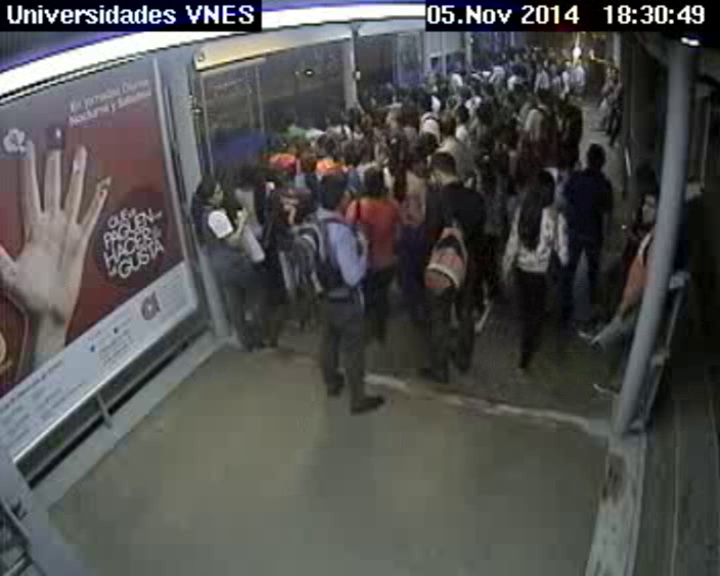person: (317, 174, 357, 210), (524, 168, 556, 205), (428, 152, 460, 185), (195, 177, 224, 207), (641, 193, 666, 224), (359, 168, 386, 196), (635, 160, 659, 190), (472, 147, 499, 173), (384, 132, 409, 157), (584, 143, 606, 171), (560, 104, 584, 129), (437, 109, 460, 135), (417, 133, 440, 158), (274, 160, 297, 185), (344, 140, 367, 163), (407, 151, 427, 176), (315, 136, 336, 158), (298, 155, 317, 177), (475, 106, 495, 126), (397, 105, 416, 126), (493, 126, 512, 146), (237, 164, 256, 184), (279, 107, 297, 128), (347, 105, 364, 126), (454, 105, 472, 124), (416, 94, 433, 112), (386, 109, 403, 127), (326, 108, 343, 126), (283, 141, 300, 159), (512, 84, 528, 101), (379, 87, 395, 103), (453, 86, 470, 101), (534, 87, 549, 103), (425, 71, 440, 86), (508, 48, 519, 63), (480, 83, 492, 96), (468, 84, 480, 97), (372, 112, 384, 125), (546, 60, 558, 72), (453, 60, 465, 72), (545, 46, 556, 58), (531, 47, 542, 59), (534, 61, 545, 72), (510, 65, 521, 76), (306, 117, 317, 128), (562, 60, 572, 72), (609, 69, 619, 80), (520, 50, 530, 60), (478, 62, 487, 72), (495, 56, 503, 65), (575, 56, 583, 65), (607, 58, 615, 66), (601, 35, 607, 42)
